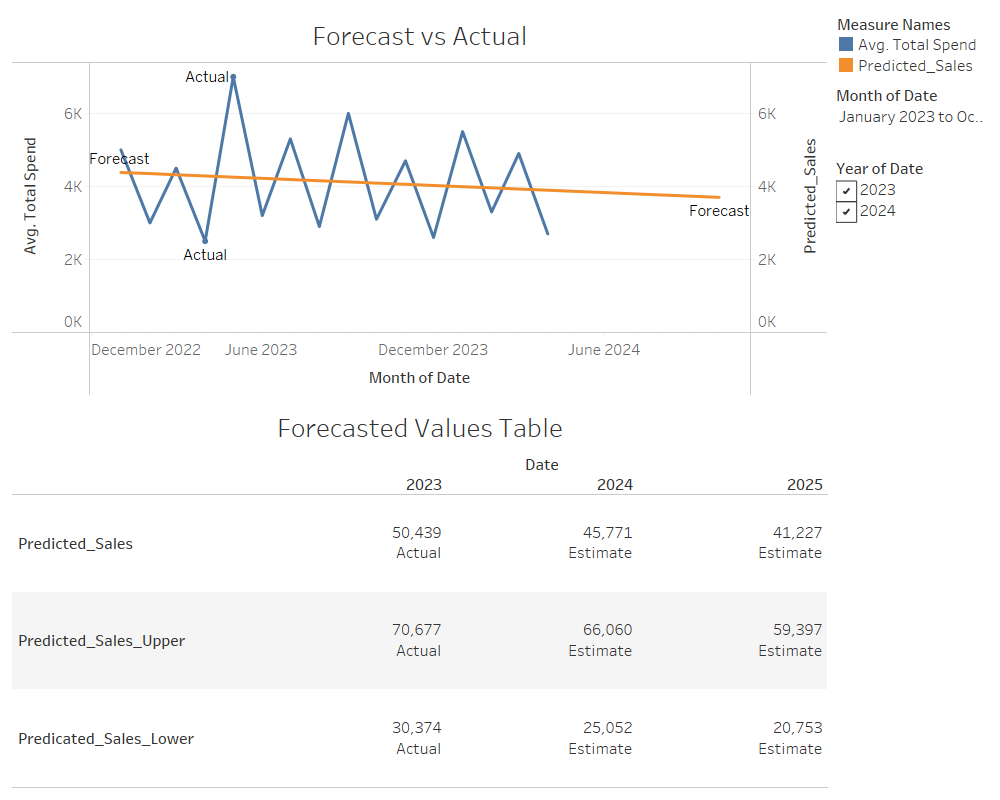

What the dashboard file says about the page in this screenshot:
{"tool":"tableau","page":{"name":"Sales Forecasting Dashboard","canvas":[1000,800],"ordinal":2},"visuals":[{"type":"worksheet","title":"Forecast vs Actual","mark":"Line","rows":["Total_Spend","yhat"],"cols":["ds"],"box":[8,8,824,392]},{"type":"legend","title":"Forecast vs Actual","param":"[federated.11ih5ec0t91gwg18vyc5h02emr7c].[:Measure Names]","box":[832,8,160,72]},{"type":"filter","title":"Forecast vs Actual","param":"[federated.11ih5ec0t91gwg18vyc5h02emr7c].[tmn:ds:qk]","box":[832,80,160,73]},{"type":"filter","title":"Forecasted Values Table","param":"[federated.11ih5ec0t91gwg18vyc5h02emr7c].[yr:ds:ok]","box":[832,153,160,105]},{"type":"worksheet","title":"Forecasted Values Table","mark":"Automatic","cols":["ds"],"box":[8,400,824,392]}]}

Visuals, with their boxes in screenshot pixels (x1, y1, x2, y2), scaled from the page's 1000x800 canvas onto the 1000x800 screenshot:
"Forecast vs Actual" worksheet (Line marks): x1=8, y1=8, x2=832, y2=400
"Forecast vs Actual" legend: x1=832, y1=8, x2=992, y2=80
"Forecast vs Actual" filter: x1=832, y1=80, x2=992, y2=153
"Forecasted Values Table" filter: x1=832, y1=153, x2=992, y2=258
"Forecasted Values Table" worksheet: x1=8, y1=400, x2=832, y2=792
